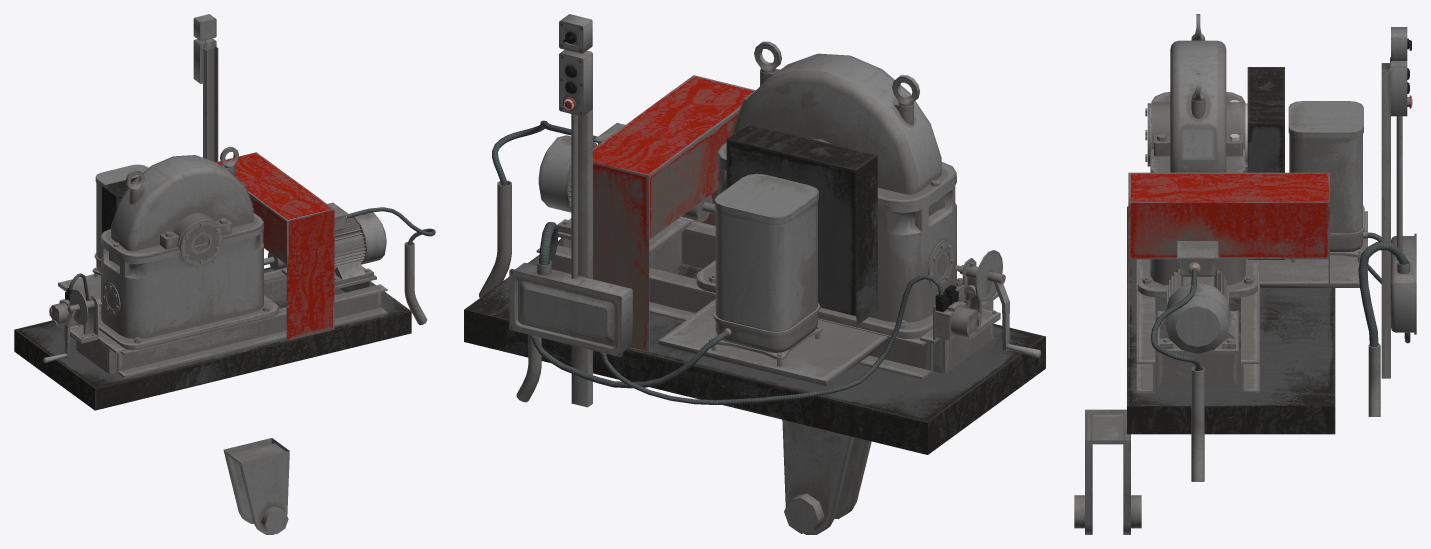
The model's file is NoCarbonWinch.fbx.
3 views of the same model, side by side, from view 1: azimuth 30°, elevation 25°; view 2: azimuth 150°, elevation 25°; view 3: azimuth 270°, elevation 25° (orthographic). The views are drawn at different scales.
Parts seen in each view (by area): view 1: Lebedka1, HandDrive; view 2: Lebedka1, HandDrive; view 3: Lebedka1.
Boxes of the visible parts, x1=… form: Lebedka1: x1=14, y1=14, x2=435, y2=534; HandDrive: x1=43, y1=289, x2=101, y2=362; Lebedka1: x1=464, y1=14, x2=1045, y2=534; HandDrive: x1=955, y1=250, x2=1041, y2=357; Lebedka1: x1=1074, y1=14, x2=1416, y2=534.
Bounding box in the file's own units: 205 × 213 × 123.
Materials: 1 (1 with a texture image).
